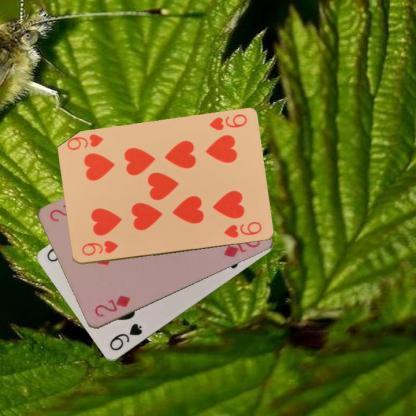2d: (92, 292, 132, 318)
9h: (206, 112, 248, 132), (78, 238, 119, 258)
9s: (106, 320, 144, 352)
